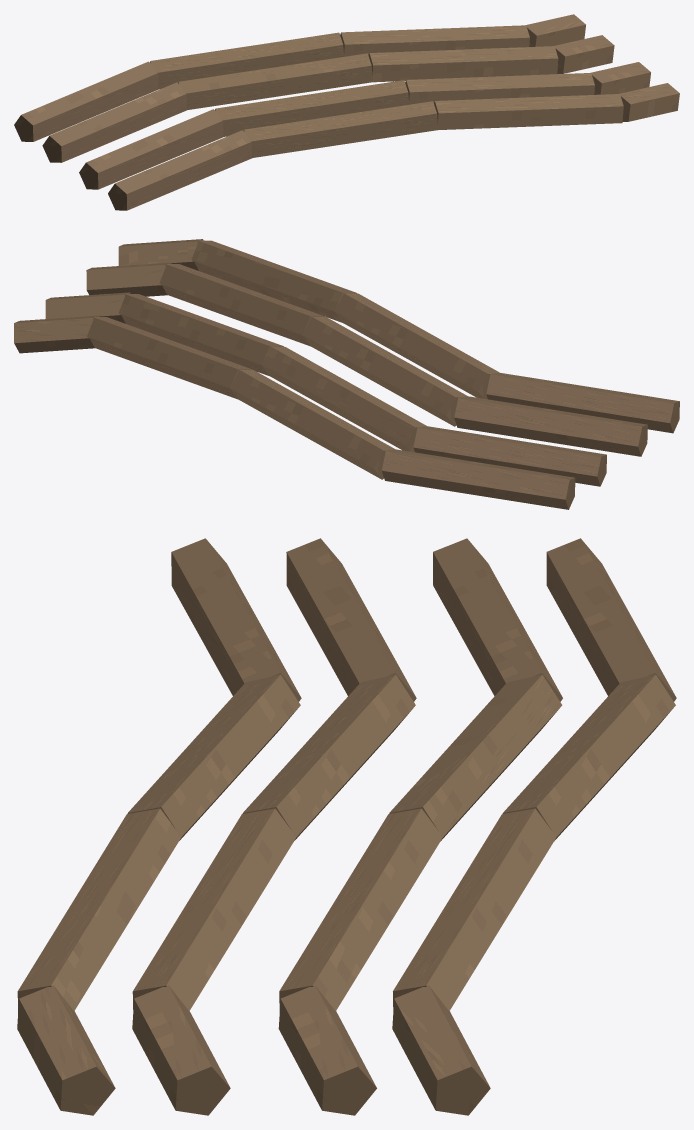
Rendered from endochitin.glb.
3 views of the same model, one above another, from view 1: azimuth 30°, elevation 25°; view 2: azimuth 150°, elevation 25°; view 3: azimuth 270°, elevation 25° (orthographic). The views are drawn at different scales.
Visible parts, largest first — view 1: block_tough curved strand 1 (×4), block_tough curved strand 2 (×4), block_tough curved strand 0 (×4), block_tough curved strand 3 (×4); view 2: block_tough curved strand 0 (×4), block_tough curved strand 1 (×4), block_tough curved strand 2 (×4), block_tough curved strand 3 (×4); view 3: block_tough curved strand 2 (×4), block_tough curved strand 1 (×4), block_tough curved strand 0 (×4), block_tough curved strand 3 (×4).
Part boxes in pixels (left/top/right/bottom): block_tough curved strand 1 (×4): left=150, top=32, right=438, bottom=157; block_tough curved strand 2 (×4): left=340, top=25, right=623, bottom=130; block_tough curved strand 0 (×4): left=14, top=61, right=252, bottom=210; block_tough curved strand 3 (×4): left=526, top=14, right=679, bottom=121; block_tough curved strand 0 (×4): left=381, top=373, right=679, bottom=509; block_tough curved strand 1 (×4): left=230, top=293, right=499, bottom=479; block_tough curved strand 2 (×4): left=87, top=240, right=357, bottom=399; block_tough curved strand 3 (×4): left=14, top=239, right=203, bottom=353; block_tough curved strand 2 (×4): left=17, top=808, right=556, bottom=1012; block_tough curved strand 1 (×4): left=127, top=674, right=675, bottom=841; block_tough curved strand 0 (×4): left=171, top=538, right=676, bottom=701; block_tough curved strand 3 (×4): left=17, top=985, right=490, bottom=1115.
Bounding box in the file's own units: 0.1279 × 0.0115 × 0.0688.
Materials: 1 (1 with a texture image).
